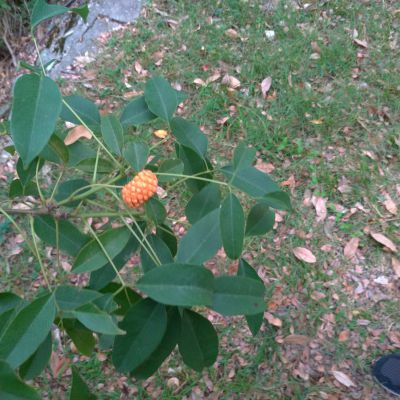eggs: (116, 165, 162, 205)
